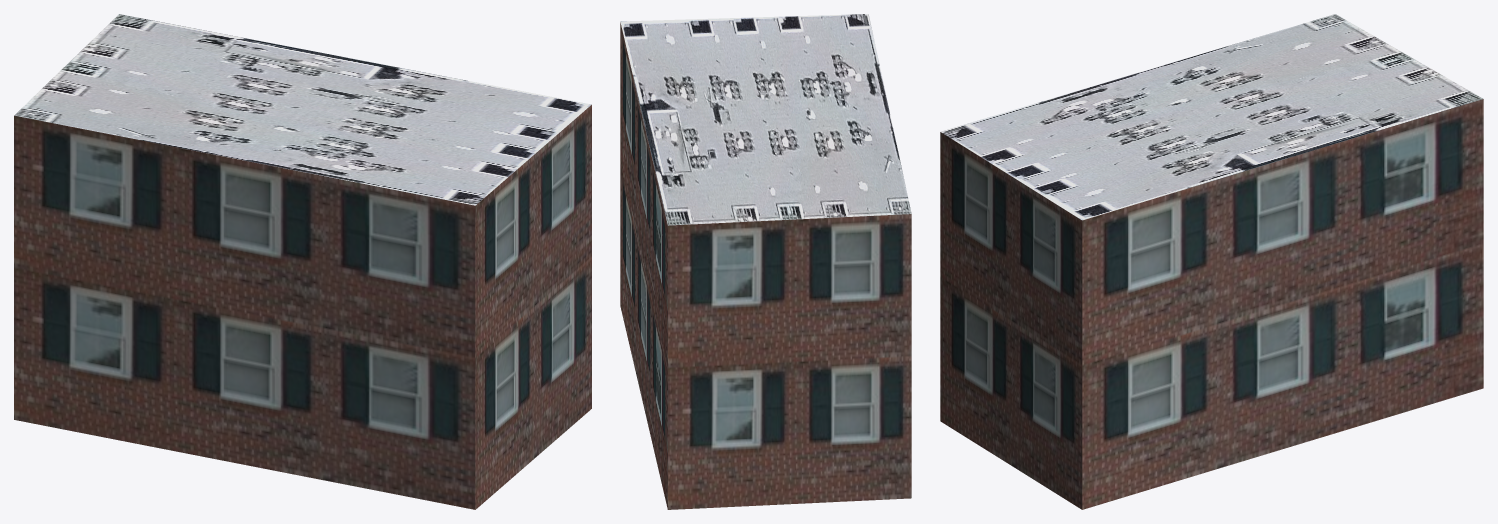
File: ResTex__1599.fbx
3 renders of one model, left to right at view 1: azimuth 30°, elevation 25°; view 2: azimuth 150°, elevation 25°; view 3: azimuth 270°, elevation 25°, orthographic. The views are drawn at different scales.
Visible parts, largest first — view 1: CityEngineMaterial_14_m, CityEngineMaterial_m; view 2: CityEngineMaterial_14_m, CityEngineMaterial_m; view 3: CityEngineMaterial_14_m, CityEngineMaterial_m.
Part boxes in pixels (<box>): CityEngineMaterial_14_m: <box>14,105,591,509</box>; CityEngineMaterial_m: <box>14,14,591,205</box>; CityEngineMaterial_14_m: <box>620,22,911,509</box>; CityEngineMaterial_m: <box>620,14,911,225</box>; CityEngineMaterial_14_m: <box>940,99,1483,509</box>; CityEngineMaterial_m: <box>940,14,1483,220</box>.
Size of the model in its own units: 9.18 by 6 by 10.21.
Materials: 2 (2 with a texture image).
